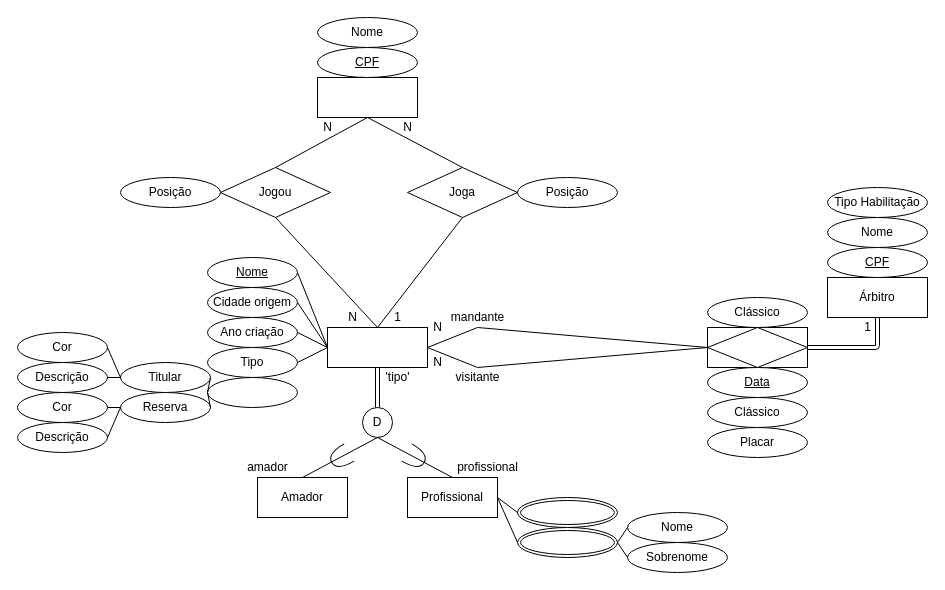
The diagram is 945 pixels wide and 590 high, and some of its shapes have lost their labels. Each missing label, with the centre of its shape:
Diretores: [567,542]
Jogador: [367,97]
Partida: [757,347]
Patrocinadores: [567,512]
Time: [377,347]
Uniforme: [252,392]
